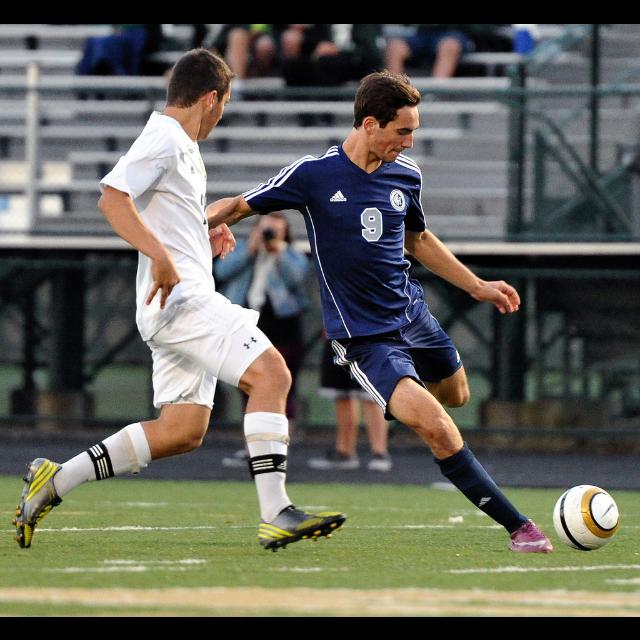Football: (553, 483, 621, 551)
